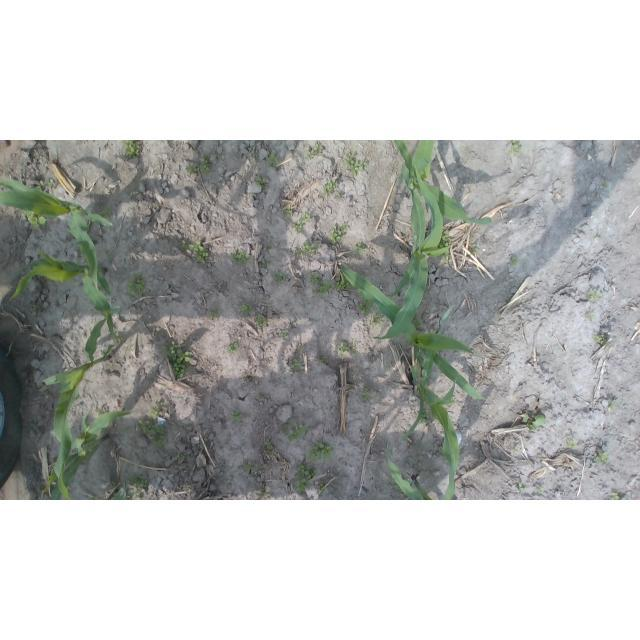Maize: (339, 265, 490, 403), (44, 306, 119, 500), (376, 161, 451, 342), (0, 179, 114, 291), (8, 250, 116, 342), (42, 408, 134, 500), (394, 140, 492, 226), (403, 364, 459, 501), (383, 440, 434, 501), (86, 486, 124, 500)
Weeds: (160, 340, 192, 379), (293, 460, 319, 492), (124, 472, 147, 500), (343, 152, 368, 177), (306, 441, 334, 461), (188, 240, 210, 264), (283, 422, 307, 443), (126, 274, 145, 299), (24, 209, 47, 229), (138, 420, 164, 437), (123, 141, 143, 160), (329, 224, 347, 244), (296, 241, 321, 255), (524, 414, 545, 430), (324, 179, 341, 197), (232, 248, 249, 265), (356, 299, 373, 316), (337, 340, 355, 356), (312, 282, 332, 296), (148, 405, 164, 420), (240, 301, 257, 315), (437, 230, 449, 249), (336, 277, 352, 291), (200, 155, 212, 173), (152, 436, 168, 449), (509, 141, 522, 156), (411, 314, 424, 329), (371, 312, 385, 325), (419, 410, 431, 425), (244, 461, 256, 475), (290, 358, 302, 372), (272, 272, 286, 284), (586, 289, 600, 301), (267, 153, 279, 166), (256, 176, 269, 188), (596, 453, 610, 464), (291, 220, 303, 232), (100, 209, 113, 220), (593, 335, 607, 345), (361, 388, 371, 401), (313, 140, 323, 153), (311, 271, 320, 285), (232, 411, 243, 422), (228, 343, 239, 354), (255, 315, 267, 325), (283, 206, 293, 218), (352, 243, 364, 253), (304, 149, 314, 160), (185, 164, 197, 173), (260, 260, 270, 269), (469, 243, 477, 254), (110, 476, 117, 488), (264, 442, 273, 450), (280, 330, 289, 338), (302, 212, 310, 221), (48, 180, 57, 188), (568, 440, 576, 449), (35, 180, 43, 188), (32, 304, 40, 312), (510, 256, 518, 264), (181, 240, 188, 249), (519, 484, 526, 493), (320, 356, 328, 363), (210, 310, 217, 318), (587, 312, 594, 320), (612, 493, 619, 500), (609, 402, 616, 409), (537, 486, 543, 494), (318, 487, 325, 493), (259, 395, 266, 401), (114, 332, 120, 339), (450, 396, 454, 405), (178, 456, 185, 461), (261, 492, 265, 500), (604, 181, 609, 187), (444, 260, 449, 265)
